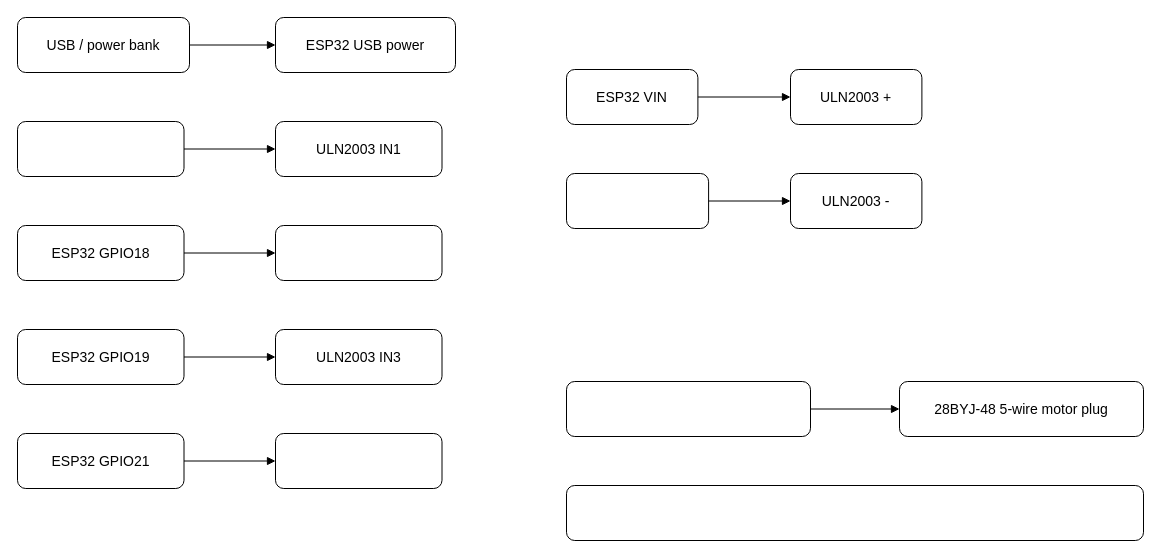
Some shapes in this 1161 by 558 pixel diagram are drawn without their labels. The box of each missing label's shape, as (x1, y1, x2, y2) in pixels:
ESP32 GND: (566, 172, 709, 228)
ESP32 GPIO5: (16, 120, 184, 176)
ULN2003 IN2: (274, 224, 442, 280)
ULN2003 IN4: (274, 432, 442, 488)
ULN2003 white motor socket: (566, 380, 810, 436)
Working sequence: 1010 -> 0110 -> 0101 -> 1001: (566, 484, 1144, 540)
